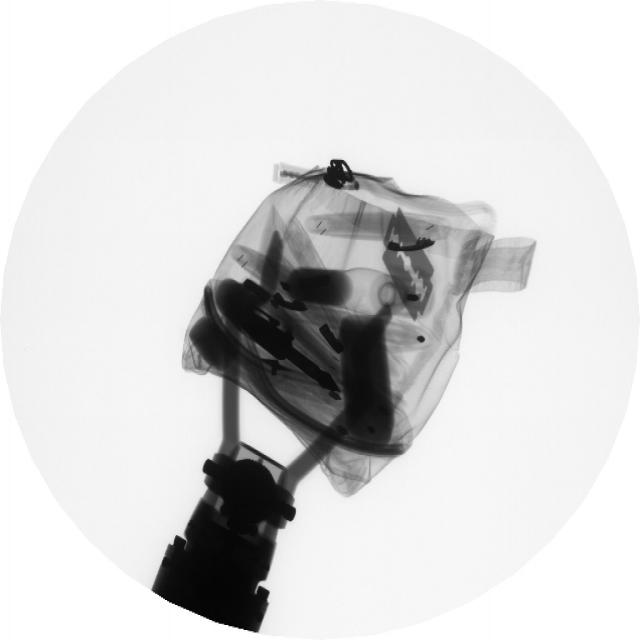BLADE: (379, 223, 438, 329)
